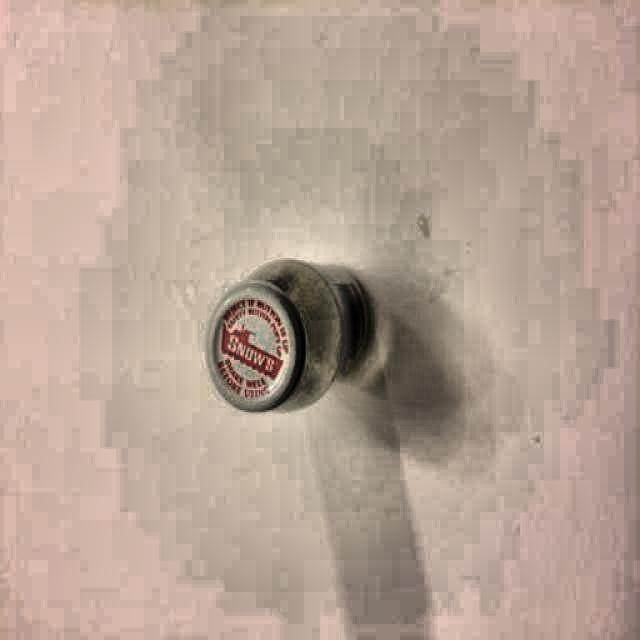glass: (204, 259, 374, 415)
